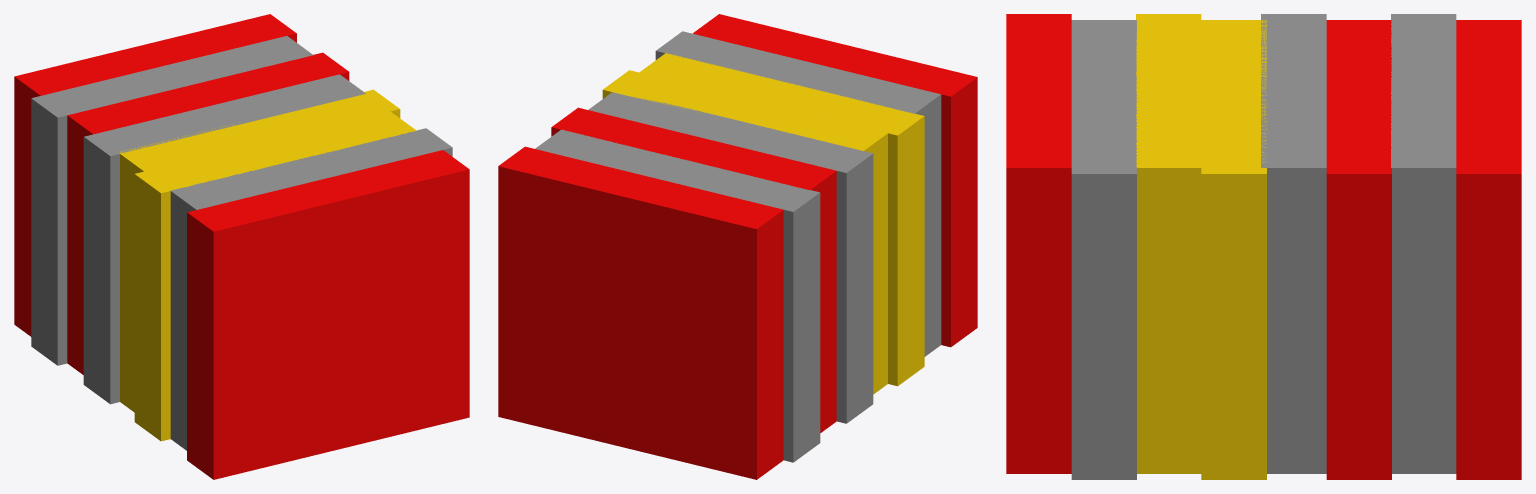
Rendered from Bookpile02_anime.FBX.
3 renders of one model, left to right at view 1: azimuth 30°, elevation 25°; view 2: azimuth 150°, elevation 25°; view 3: azimuth 270°, elevation 25°, orthographic. The views are drawn at different scales.
Visible parts, largest first — view 1: Box043; view 2: Box043; view 3: Box043.
Part boxes in pixels (bbox=[...]): Box043: bbox=[14, 14, 469, 479]; Box043: bbox=[498, 14, 977, 479]; Box043: bbox=[1006, 14, 1521, 479].
Size of the model in its own units: 20.23 by 18.05 by 27.56.
